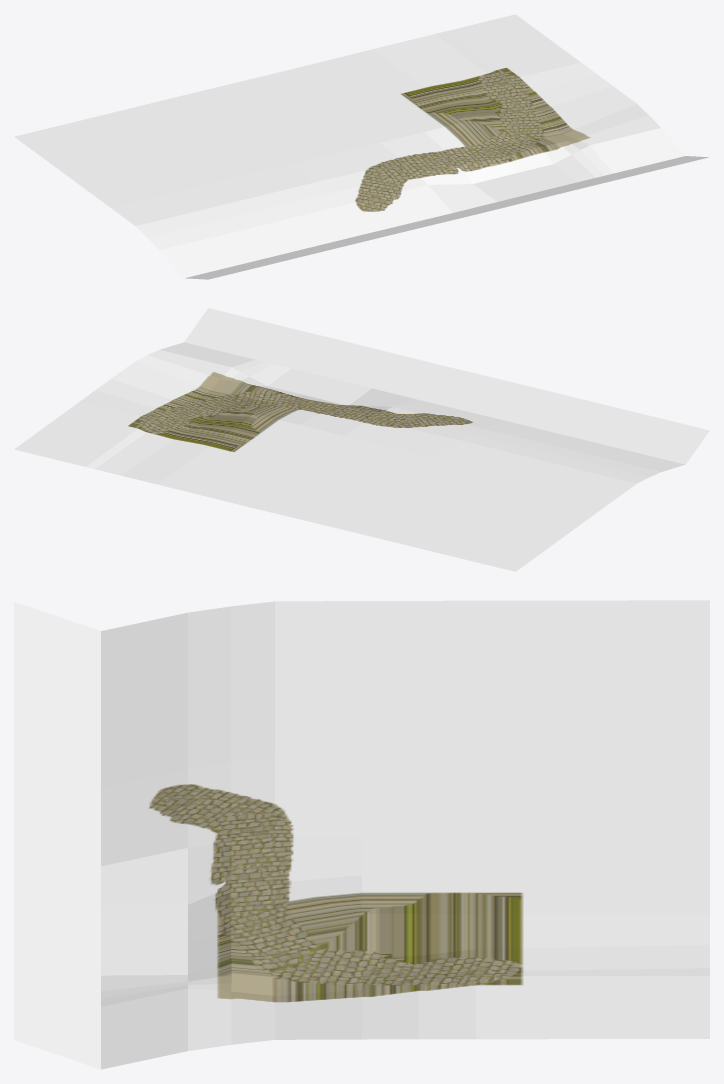
Rendered from Cobblestone.fbx.
The picture shows the model from 3 angles, top to bottom: view 1: azimuth 30°, elevation 25°; view 2: azimuth 150°, elevation 25°; view 3: azimuth 270°, elevation 25°; orthographic projection. The views are drawn at different scales.
Visible parts, largest first — view 1: cobblestone; view 2: cobblestone; view 3: cobblestone.
Boxes of the visible parts, x1,y1,x2,y2 form: cobblestone: (14, 14, 708, 279); cobblestone: (14, 308, 709, 571); cobblestone: (14, 600, 709, 1069).
Bounding box in the file's own units: 12651 × 421 × 8486.
Materials: 1 (1 with a texture image).
